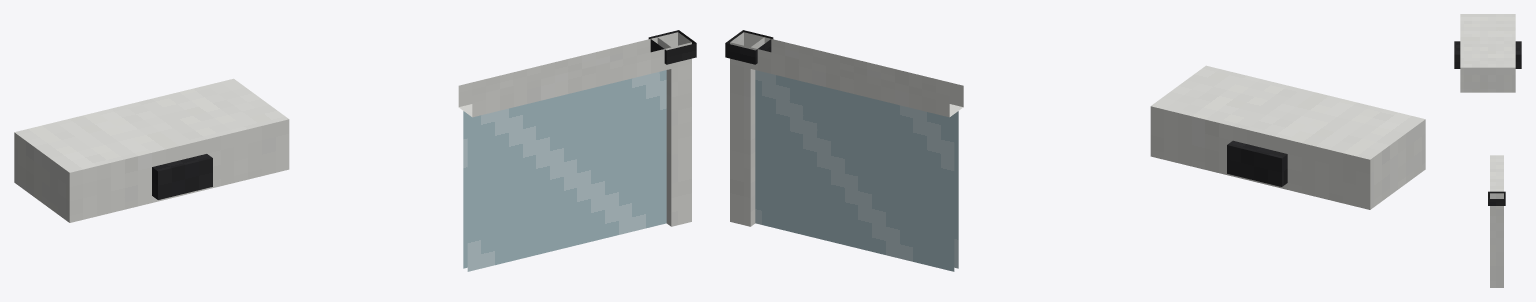
File: auto_door_wide_slider_white_c0_upper_right_open.obj
3 renders of one model, left to right at view 1: azimuth 30°, elevation 25°; view 2: azimuth 150°, elevation 25°; view 3: azimuth 270°, elevation 25°, orthographic. The views are drawn at different scales.
Visible parts, largest first — view 1: auto_door_wide_slider_white_c0_upper_right_open; view 2: auto_door_wide_slider_white_c0_upper_right_open; view 3: auto_door_wide_slider_white_c0_upper_right_open.
Part boxes in pixels (<box>): auto_door_wide_slider_white_c0_upper_right_open: <box>14,30,696,271</box>; auto_door_wide_slider_white_c0_upper_right_open: <box>725,30,1425,271</box>; auto_door_wide_slider_white_c0_upper_right_open: <box>1454,14,1521,287</box>.
Size of the model in its own units: 2.98 by 1 by 0.5312.
